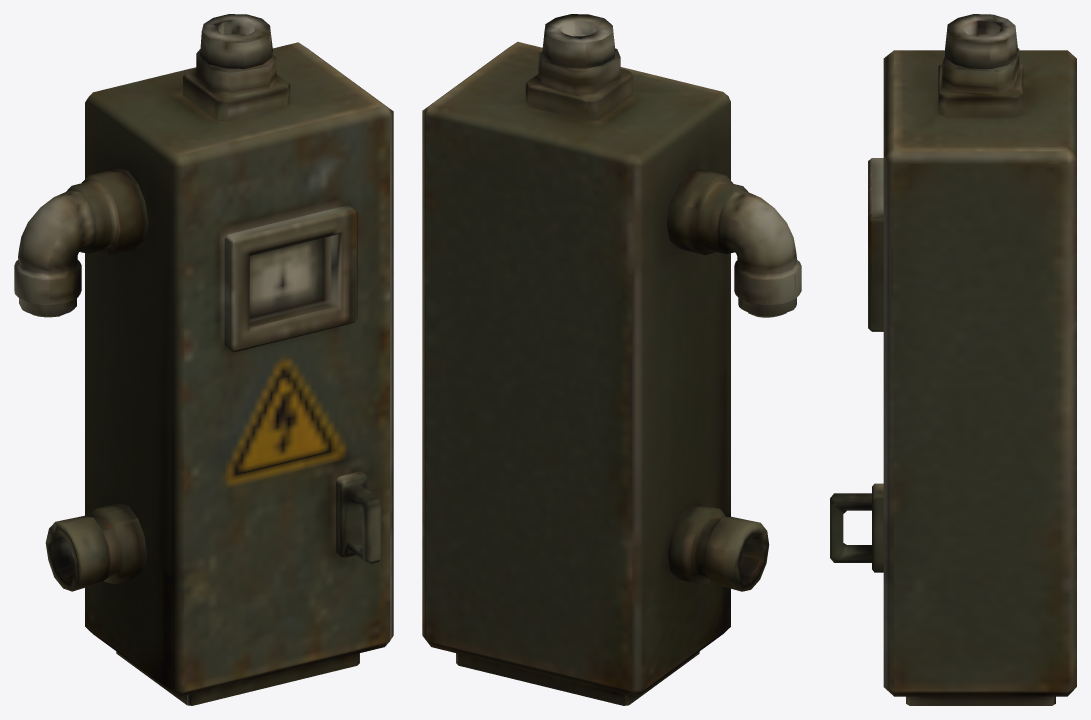
File: electrical_control_box_meter.fbx
3 renders of one model, left to right at view 1: azimuth 30°, elevation 25°; view 2: azimuth 150°, elevation 25°; view 3: azimuth 270°, elevation 25°, orthographic.
Parts seen in each view (by area): view 1: electrical_control_box_meter; view 2: electrical_control_box_meter; view 3: electrical_control_box_meter.
Boxes of the visible parts, bbox=[...] form: electrical_control_box_meter: bbox=[14, 14, 393, 705]; electrical_control_box_meter: bbox=[422, 14, 801, 705]; electrical_control_box_meter: bbox=[830, 14, 1076, 705].
Bounding box in the file's own units: 62.11 × 113 × 39.8.
